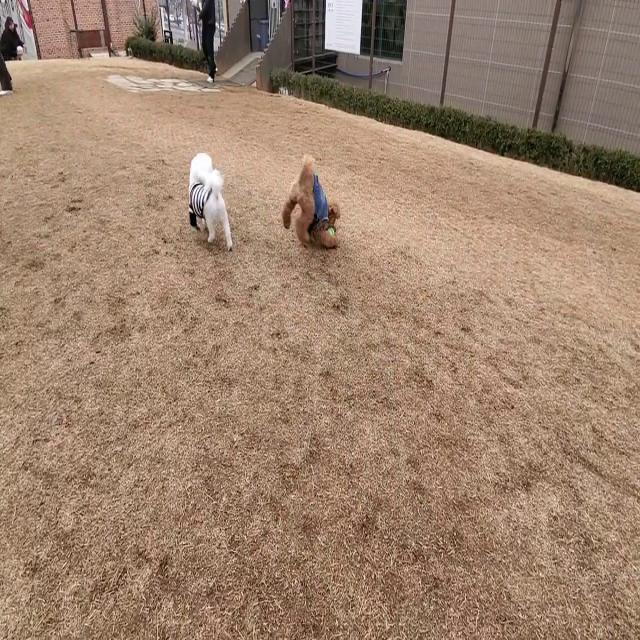Dog: (283, 153, 341, 248), (188, 152, 232, 250)
